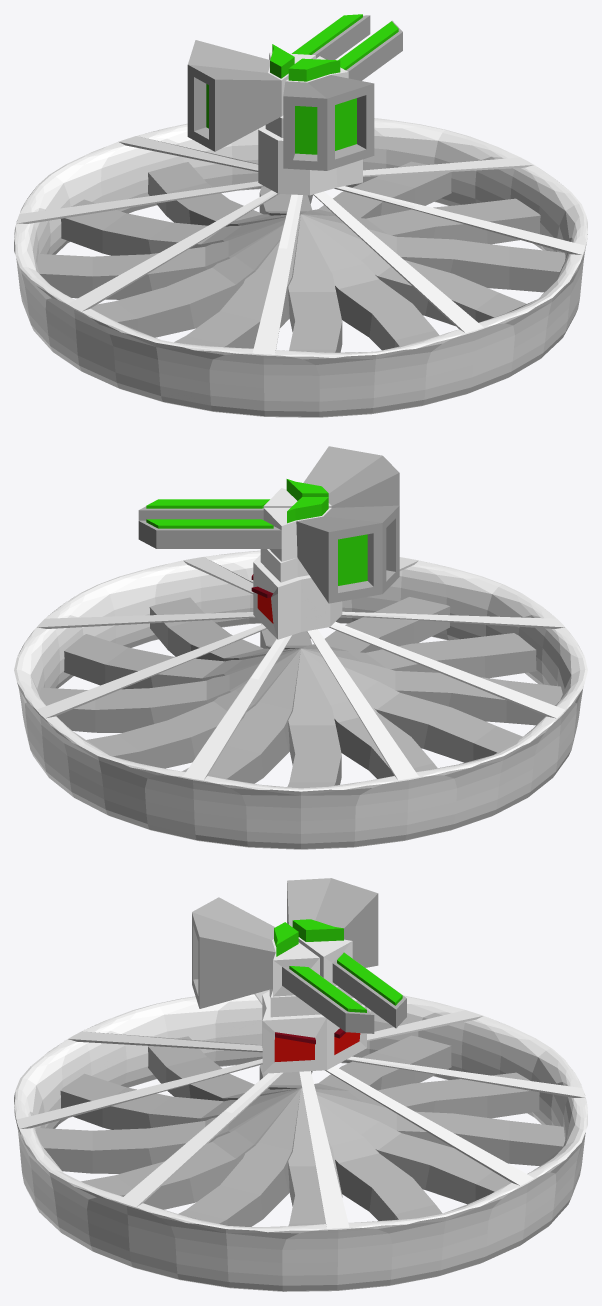
The model's file is Drone3.1.fbx.
The picture shows the model from 3 angles, top to bottom: view 1: azimuth 30°, elevation 25°; view 2: azimuth 150°, elevation 25°; view 3: azimuth 270°, elevation 25°; orthographic projection.
Visible parts, largest first — view 1: Circle, Cube; view 2: Circle, Cube; view 3: Circle, Cube.
Boxes of the visible parts, left/top/right/bottom form: Circle: left=14, top=14, right=587, bottom=417; Cube: left=37, top=161, right=565, bottom=352; Circle: left=14, top=446, right=587, bottom=849; Cube: left=39, top=597, right=562, bottom=788; Circle: left=14, top=878, right=587, bottom=1291; Cube: left=36, top=1035, right=565, bottom=1226.
Bounding box in the file's own units: 183 × 88.23 × 183.
